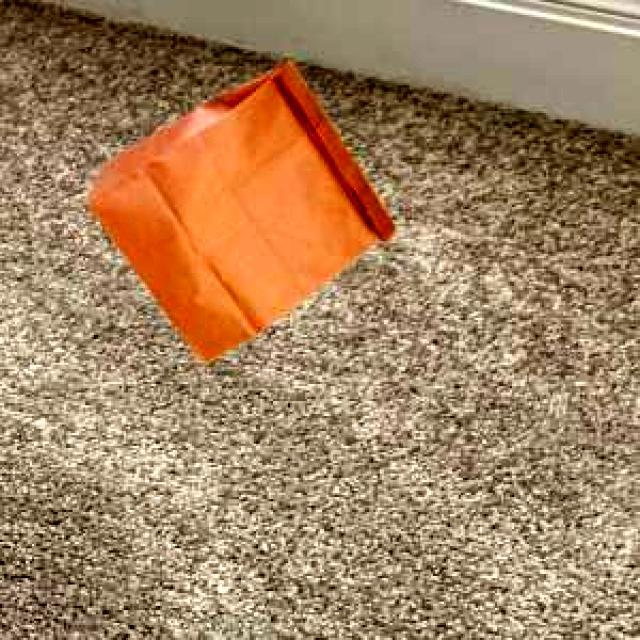Paper_Bag: (84, 58, 394, 360)
